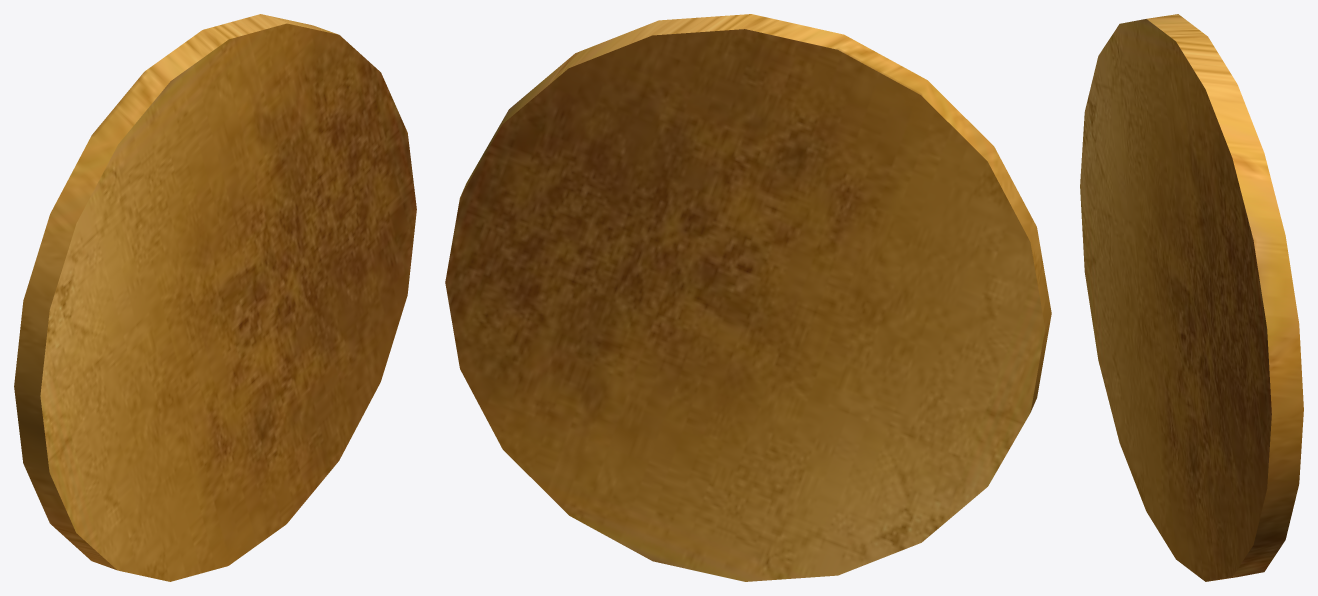
File: checkpoint coin.fbx
The picture shows the model from 3 angles, left to right: view 1: azimuth 30°, elevation 25°; view 2: azimuth 150°, elevation 25°; view 3: azimuth 270°, elevation 25°; orthographic projection. The views are drawn at different scales.
Parts seen in each view (by area): view 1: pCylinder1; view 2: pCylinder1; view 3: pCylinder1.
Part boxes in pixels (x1=…): pCylinder1: x1=14, y1=14, x2=416, y2=581; pCylinder1: x1=445, y1=14, x2=1051, y2=581; pCylinder1: x1=1080, y1=14, x2=1303, y2=581.
Size of the model in its own units: 1.92 by 2 by 0.7832.
